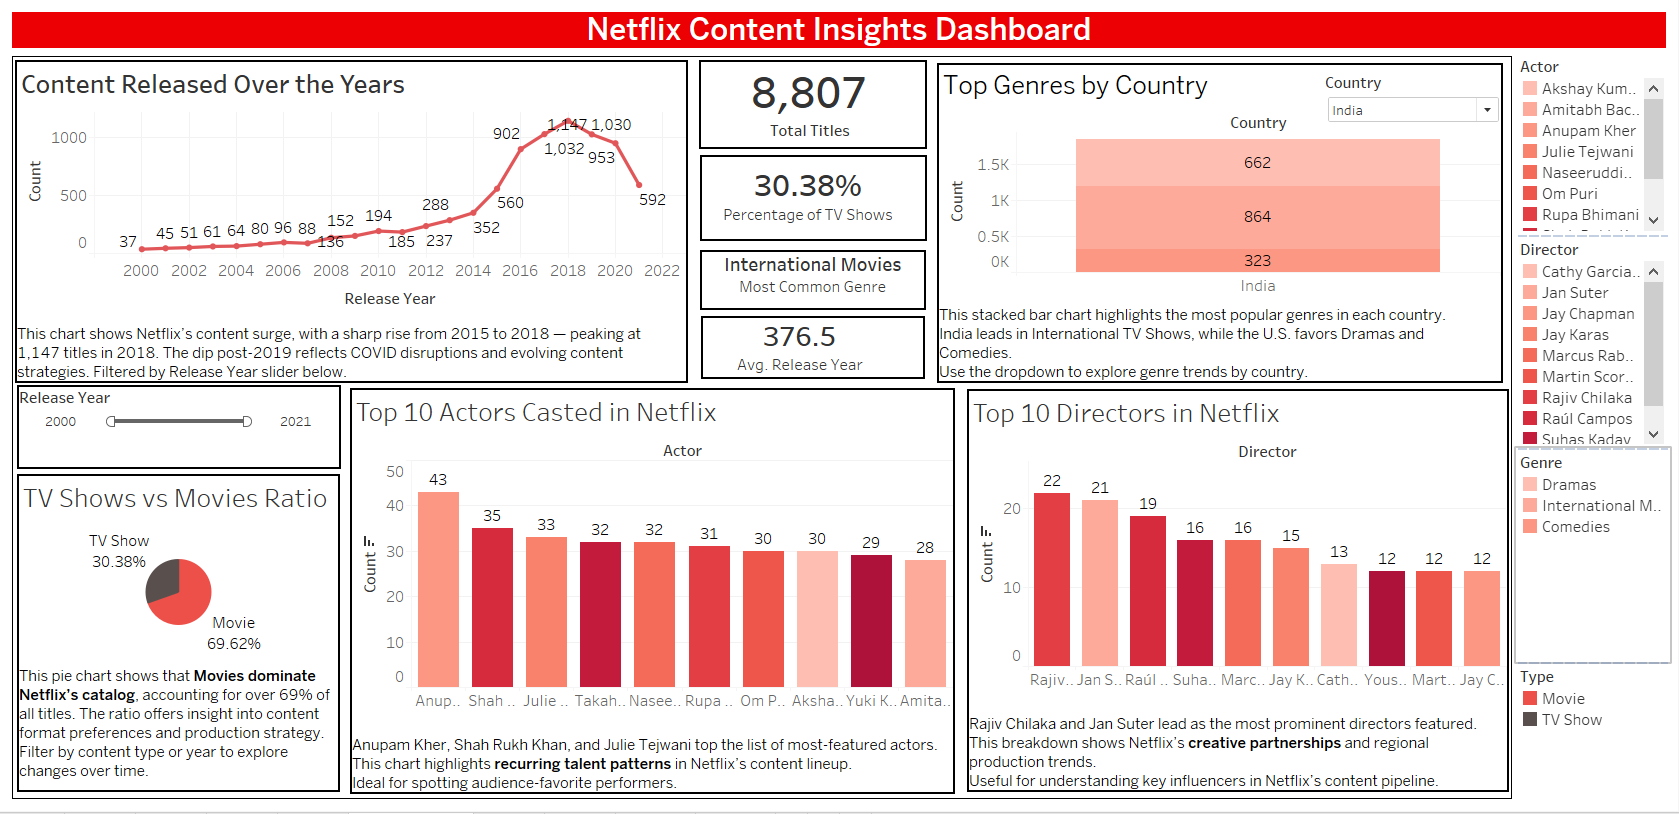

Layout of this report page (visuals, bound fields, positions):
{"tool":"tableau","page":{"name":"Dashboard 1","canvas":[1000,1000],"units":"permille","ordinal":0},"visuals":[{"type":"title","box":[4.8,9.9,990.5,54.2]},{"type":"dashboard-object","param":"[com.tableau.addfilters].[0.0.0].[https://extensions.tableauusercontent.com/sand","box":[4.8,64.1,898.7,926]},{"type":"legend","title":"Sheet 5","param":"[federated.119o6ry1ybx0i510dzo4z0hgiuyc].[none:Actor:nk]","box":[903.5,64.1,91.8,225.6]},{"type":"worksheet","title":"Sheet 3","mark":"Automatic","rows":["count"],"cols":["release_year"],"box":[8.9,74,401.1,398.3]},{"type":"worksheet","title":"Sheet 8","mark":"Automatic","box":[416.6,74,135.9,109.7]},{"type":"worksheet","title":"Sheet 2","mark":"Automatic","rows":["count"],"cols":["country"],"box":[558.4,77.7,337.3,394.6]},{"type":"filter","title":"Sheet 2","param":"[federated.0xrsi4d1p60kdv10uzn8c0crj1o3].[none:country:nk]","box":[789.6,88.8,105.5,70.3]},{"type":"worksheet","title":"Sheet 9","mark":"Automatic","box":[417.2,191.1,135.3,106]},{"type":"legend","title":"Sheet 7","param":"[federated.05bmilh07scw1c1cmrexg105u33t].[none:Director:nk]","box":[903.5,289.8,91.8,263.3]},{"type":"worksheet","title":"Sheet 10","mark":"Automatic","box":[417.2,308.3,134.7,74]},{"type":"worksheet","title":"Sheet 11","mark":"Automatic","box":[417.8,389.6,133.5,77.7]},{"type":"filter","title":"Sheet 3","param":"[federated.1shcex60fd7rcn17mmxmp01voi7h].[none:release_year:qk]","box":[10.1,474.7,193.1,103.6]},{"type":"worksheet","title":"Sheet 5","mark":"Automatic","rows":["Count"],"cols":["Actor"],"box":[208.6,478.4,360.6,500.6]},{"type":"worksheet","title":"Sheet 7","mark":"Automatic","rows":["Count"],"cols":["Director"],"box":[576.3,479.7,323,496.9]},{"type":"legend","title":"Sheet 2","param":"[federated.0xrsi4d1p60kdv10uzn8c0crj1o3].[none:genre:nk]","box":[903.5,553,91.8,263.3]},{"type":"worksheet","title":"Sheet 4","mark":"Pie","box":[10.1,584.5,192.5,392.1]},{"type":"legend","title":"Sheet 4","param":"[federated.1k8w0xp0h50azb0zt7j611jqlq9a].[none:type:nk]","box":[903.5,816.3,91.8,173.9]}]}

Visuals, with their boxes on the dashboard's canvas, which has no fixed pixel size, in thousandths of its width and height (x1, y1, x2, y2). These are canvas units, not pixel positions in the 1679x814 screenshot, which may show the page scaled, cropped or inside an application window:
title: <box>5,10,995,64</box>
dashboard-object: <box>5,64,904,990</box>
"Sheet 5" legend: <box>904,64,995,290</box>
"Sheet 3" worksheet: <box>9,74,410,472</box>
"Sheet 8" worksheet: <box>417,74,552,184</box>
"Sheet 2" worksheet: <box>558,78,896,472</box>
"Sheet 2" filter: <box>790,89,895,159</box>
"Sheet 9" worksheet: <box>417,191,552,297</box>
"Sheet 7" legend: <box>904,290,995,553</box>
"Sheet 10" worksheet: <box>417,308,552,382</box>
"Sheet 11" worksheet: <box>418,390,551,467</box>
"Sheet 3" filter: <box>10,475,203,578</box>
"Sheet 5" worksheet: <box>209,478,569,979</box>
"Sheet 7" worksheet: <box>576,480,899,977</box>
"Sheet 2" legend: <box>904,553,995,816</box>
"Sheet 4" worksheet (Pie marks): <box>10,584,203,977</box>
"Sheet 4" legend: <box>904,816,995,990</box>
